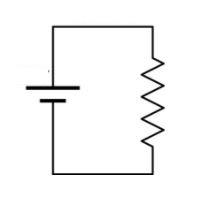resistor: (128, 39, 171, 156)
